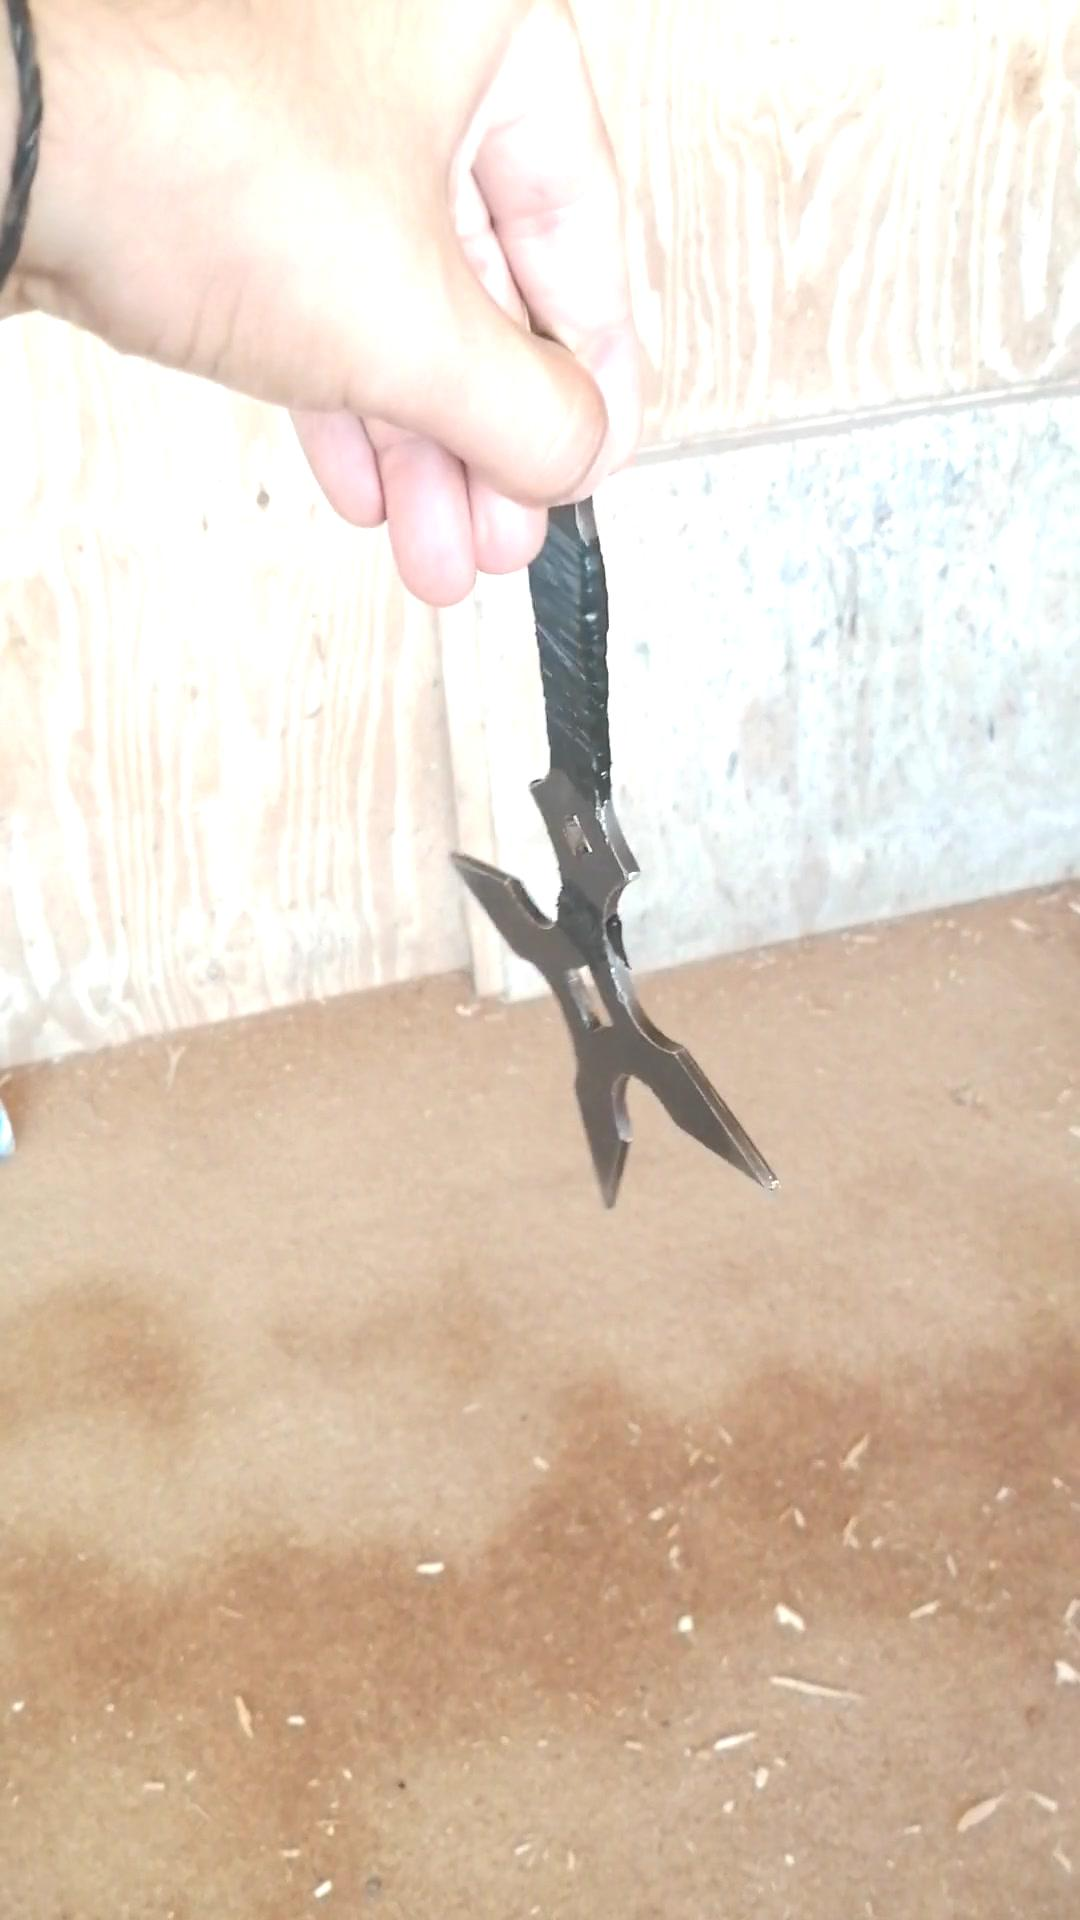Hand Axe: (444, 477, 798, 1220)
